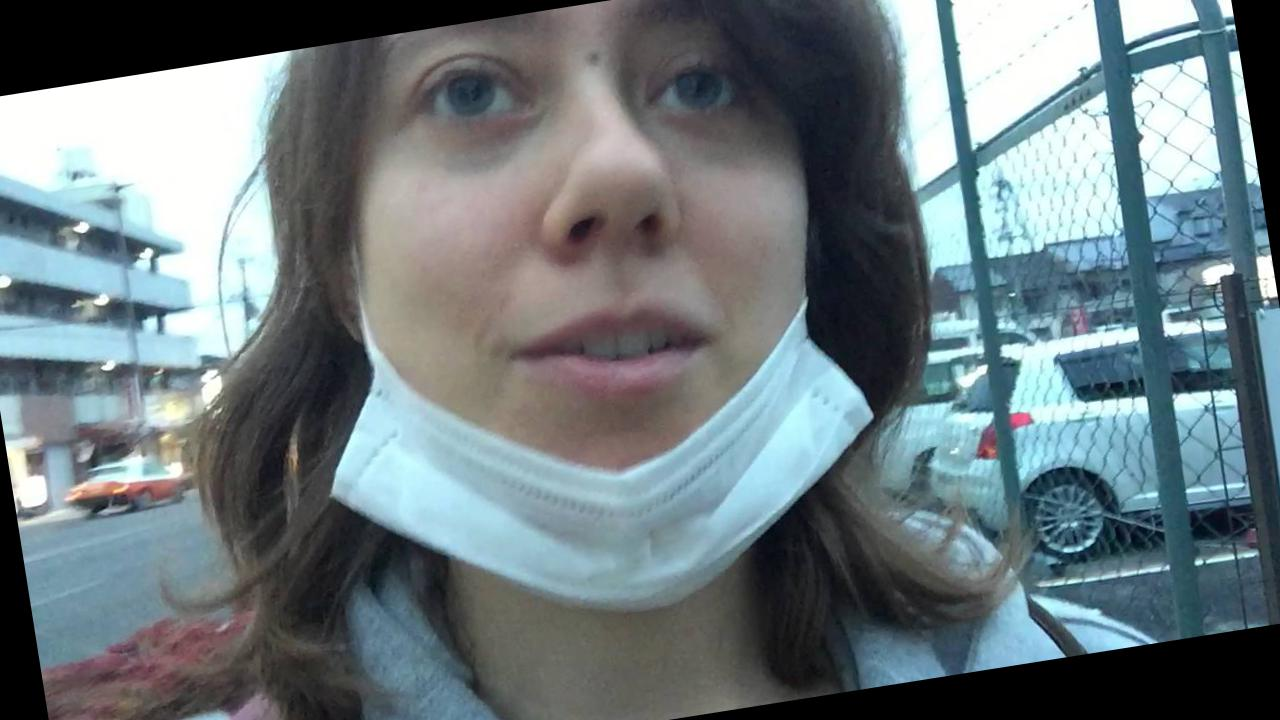mask_weared_incorrect: (379, 1, 838, 577)
